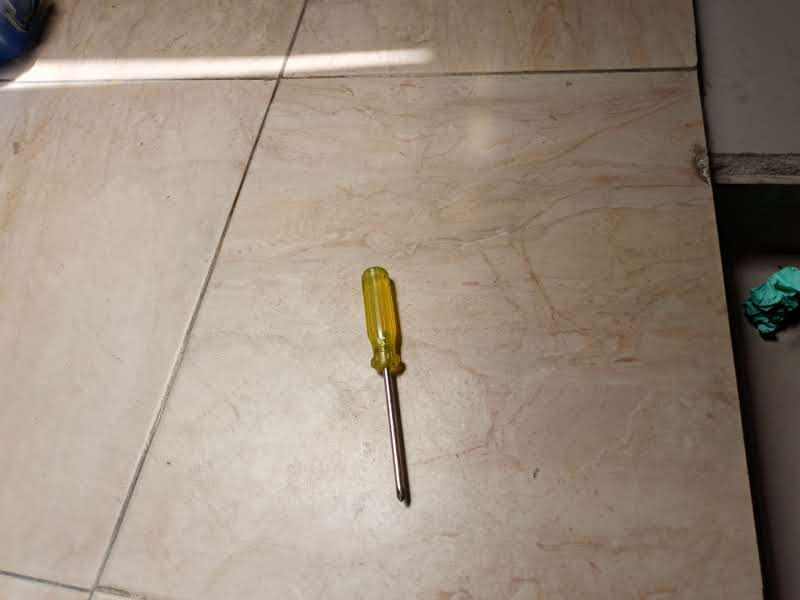Destornillador: (362, 267, 407, 501)
